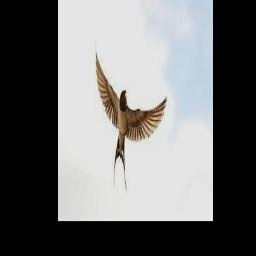Swallow: (95, 51, 166, 192)
